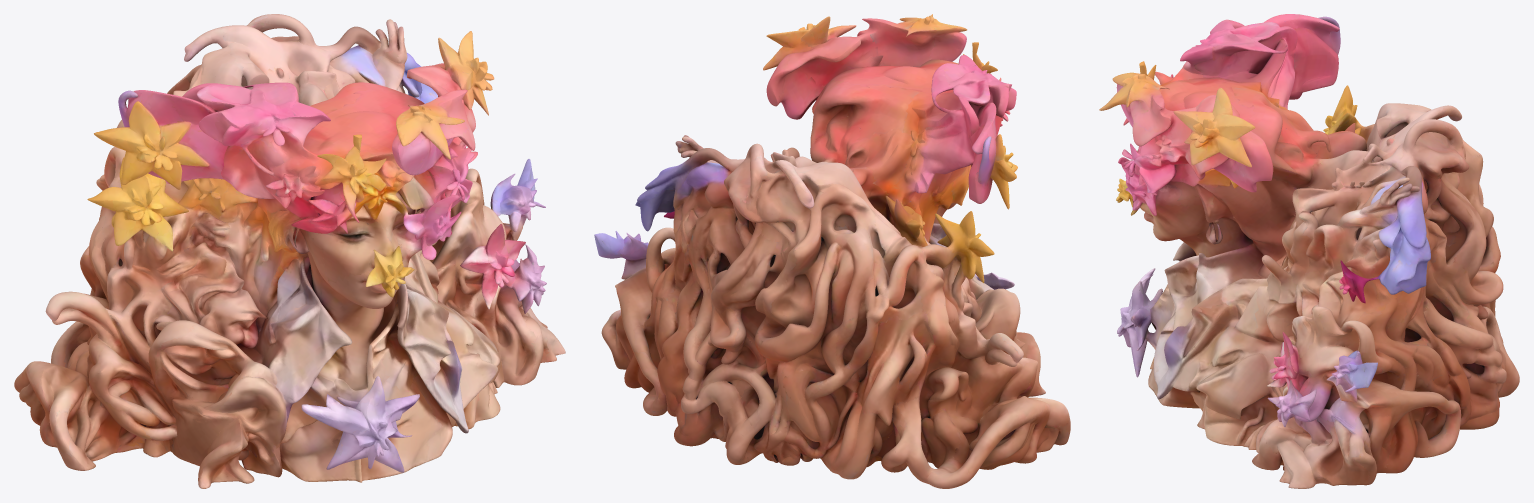
File: metal.glb
3 renders of one model, left to right at view 1: azimuth 30°, elevation 25°; view 2: azimuth 150°, elevation 25°; view 3: azimuth 270°, elevation 25°, orthographic. The views are drawn at different scales.
Visible parts, largest first — view 1: model; view 2: model; view 3: model.
Part boxes in pixels (x1,y1,x2,y2): model: [14, 14, 565, 488]; model: [594, 14, 1070, 488]; model: [1099, 14, 1519, 488].
Size of the model in its own units: 1.4 by 1 by 1.15.
Materials: 1 (1 with a texture image).
